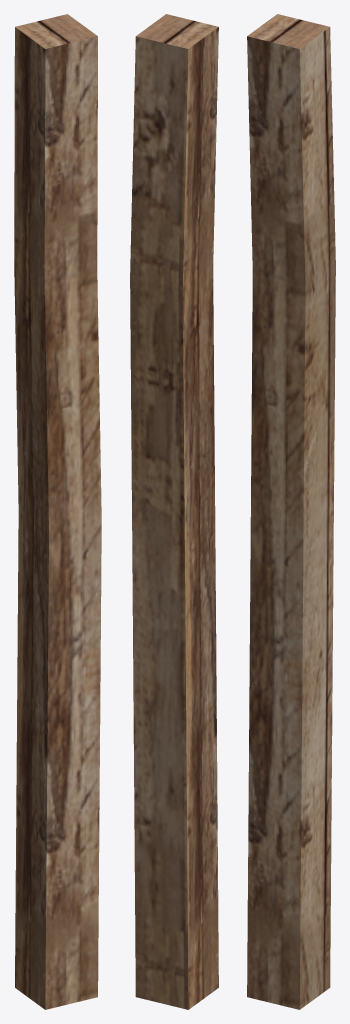
Rendered from grade pau.fbx.
3 views of the same model, side by side, from view 1: azimuth 30°, elevation 25°; view 2: azimuth 150°, elevation 25°; view 3: azimuth 330°, elevation 25° (orthographic).
Parts seen in each view (by area): view 1: Cube; view 2: Cube; view 3: Cube.
Part boxes in pixels (<box>): Cube: <box>14,14,101,1009</box>; Cube: <box>130,14,218,1009</box>; Cube: <box>247,14,335,1009</box>.
Bounding box in the file's own units: 46.32 × 754 × 47.83.
